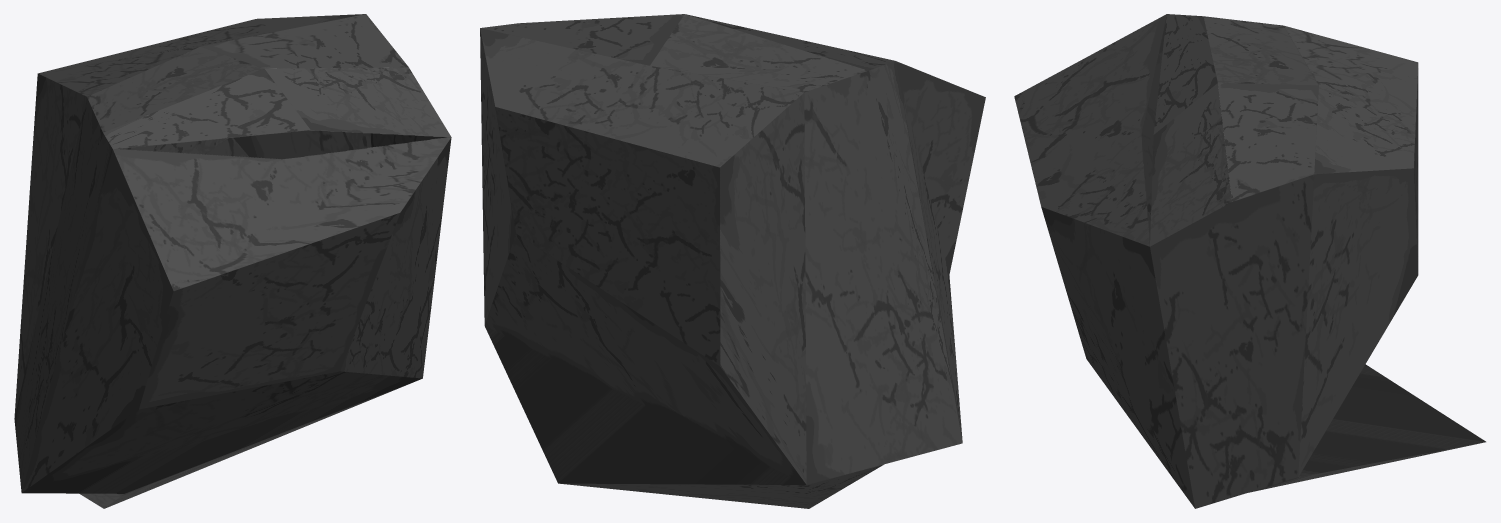
The model's file is rock4.fbx.
The picture shows the model from 3 angles, left to right: view 1: azimuth 30°, elevation 25°; view 2: azimuth 150°, elevation 25°; view 3: azimuth 270°, elevation 25°; orthographic projection. The views are drawn at different scales.
Visible parts, largest first — view 1: Cube; view 2: Cube; view 3: Cube.
Part boxes in pixels (left/top/right/bottom): Cube: left=14, top=14, right=451, bottom=508; Cube: left=480, top=14, right=985, bottom=508; Cube: left=1014, top=14, right=1485, bottom=508.
Size of the model in its own units: 19385 by 19137 by 18705.
Materials: 1 (1 with a texture image).
